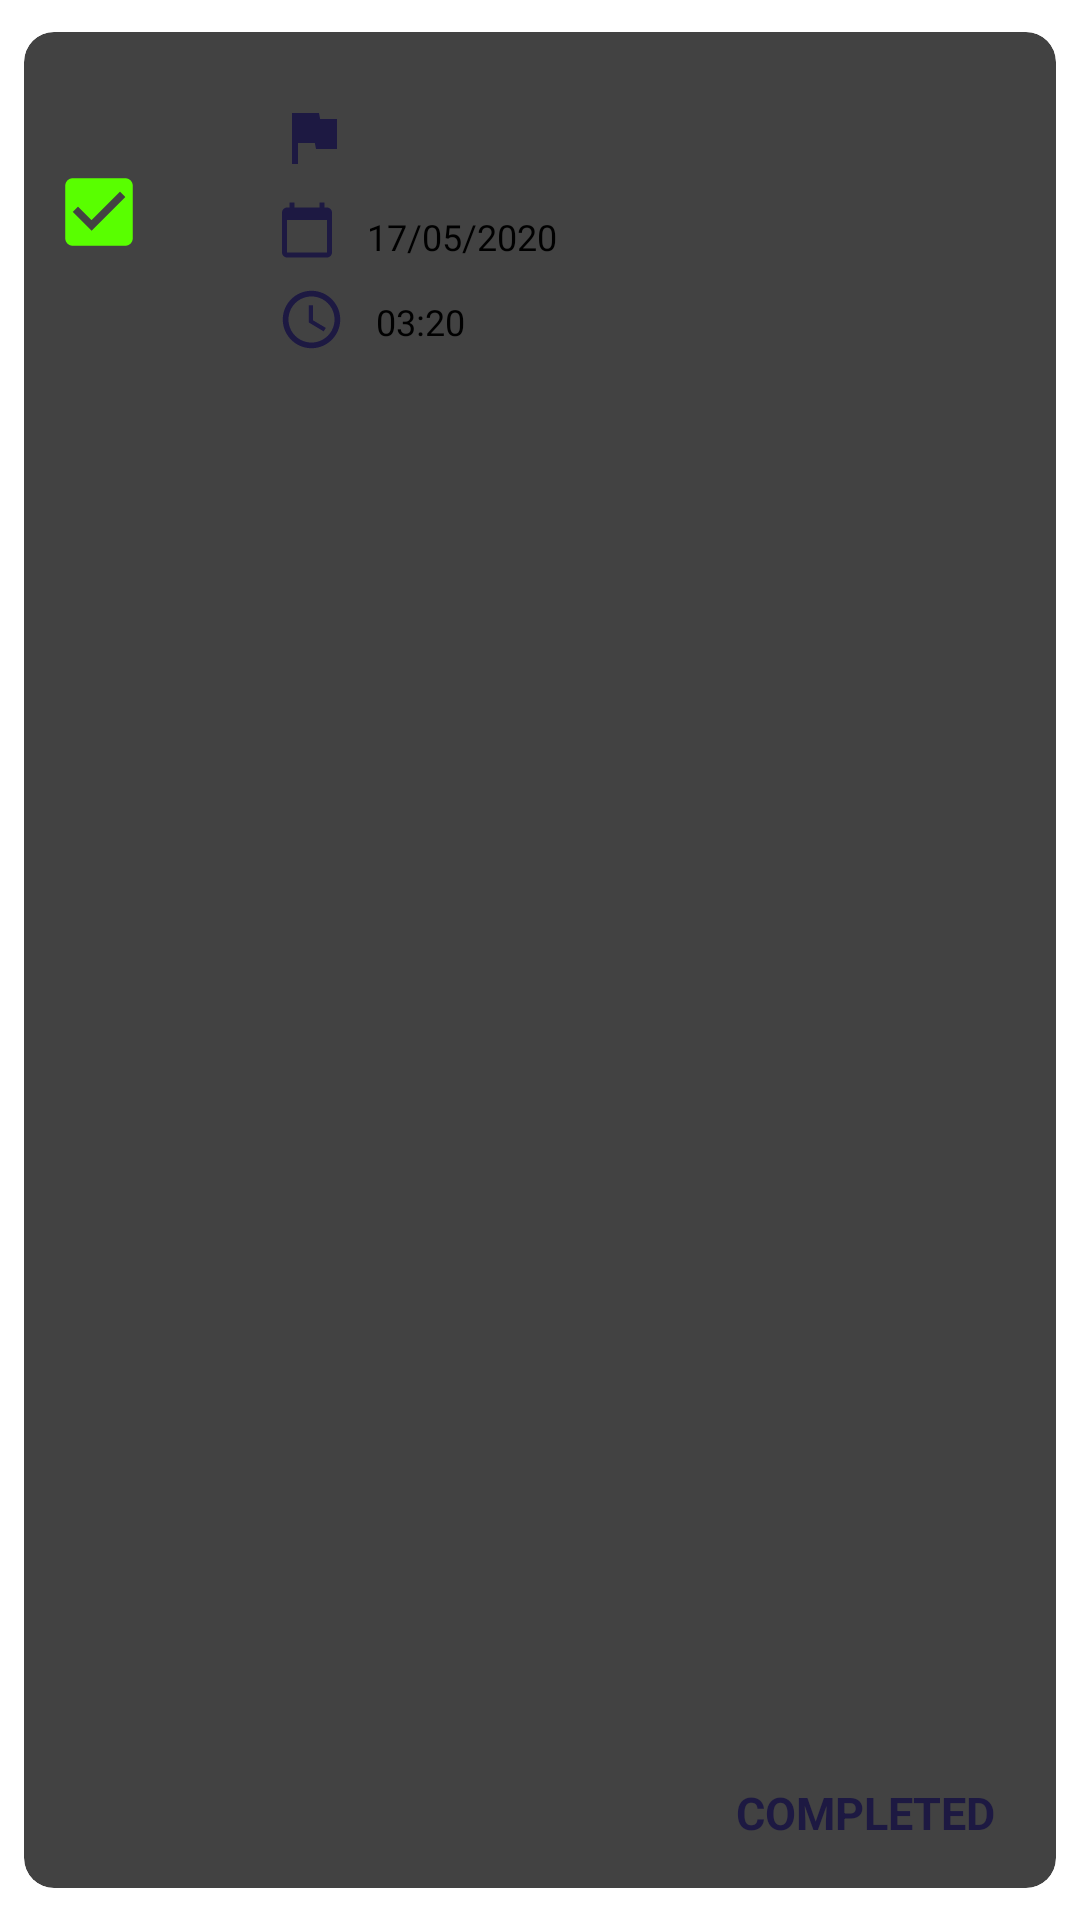

Icon click points for this 1080px×1920px phone screenshot, format (x=x, y=y):
calendar: (x=307, y=230)
check box: (x=99, y=212)
flag: (x=314, y=138)
time: (x=311, y=319)
